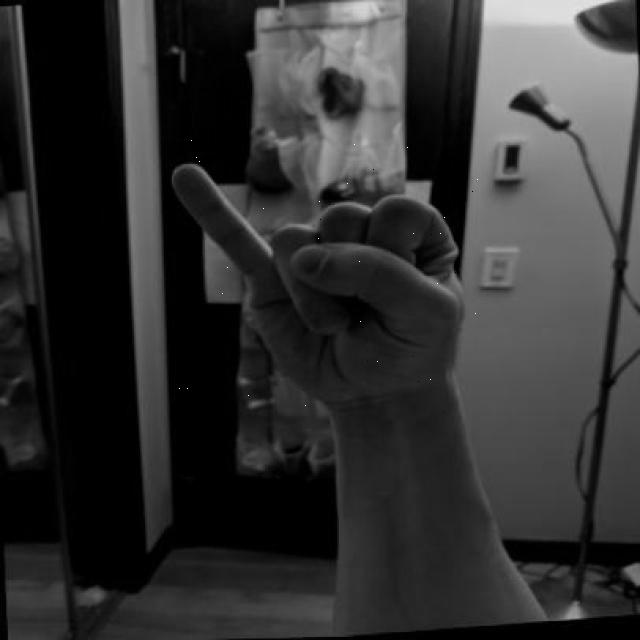I: (162, 137, 480, 424)
